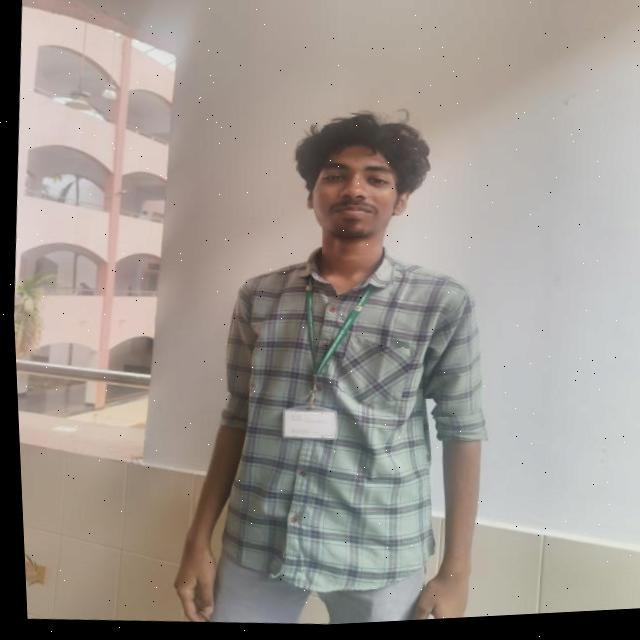id_card: (270, 274, 361, 448)
